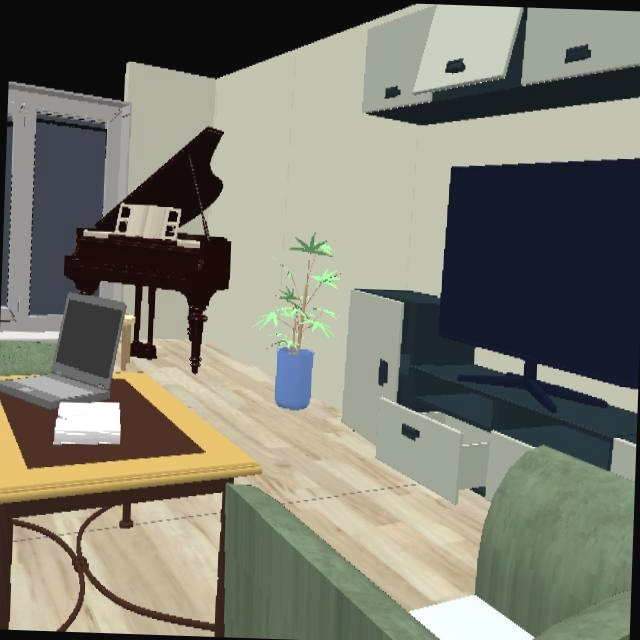book: (51, 401, 123, 455)
cabinet: (341, 289, 636, 503), (362, 3, 640, 124)
laptop: (0, 295, 123, 409)
monitor: (436, 159, 640, 387)
sofa: (213, 444, 635, 640)
table: (0, 371, 260, 518)
